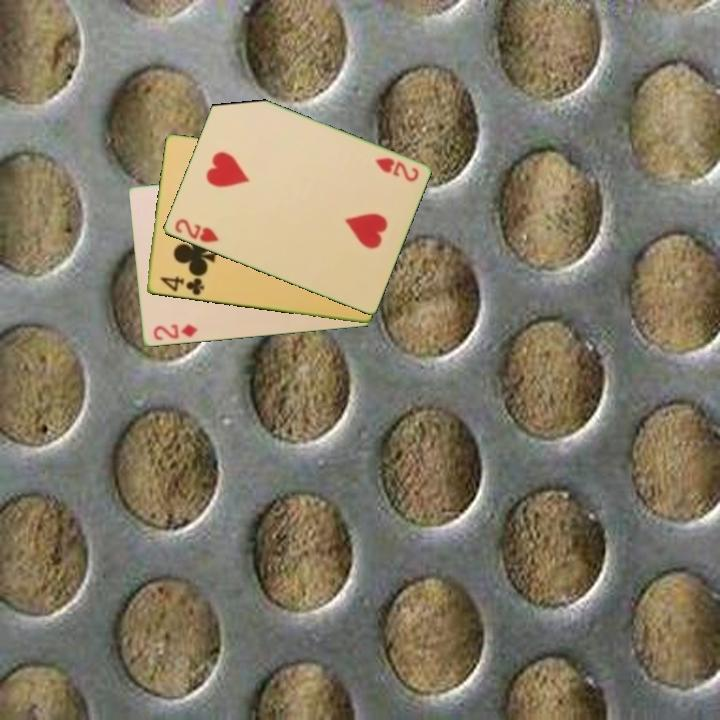2d: (150, 321, 200, 343)
2h: (171, 215, 221, 246), (371, 154, 421, 185)
4c: (156, 273, 206, 298)
